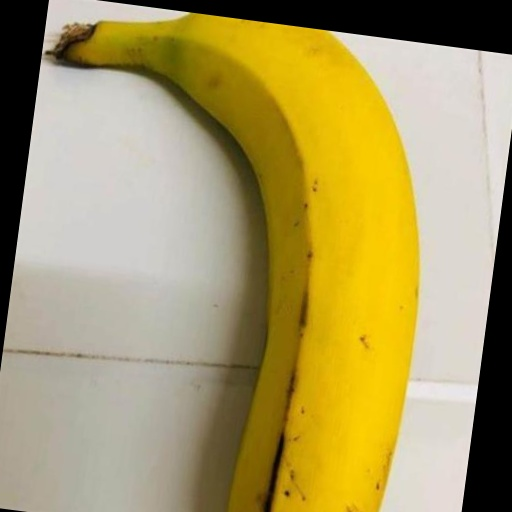fruit: (53, 13, 417, 512)
